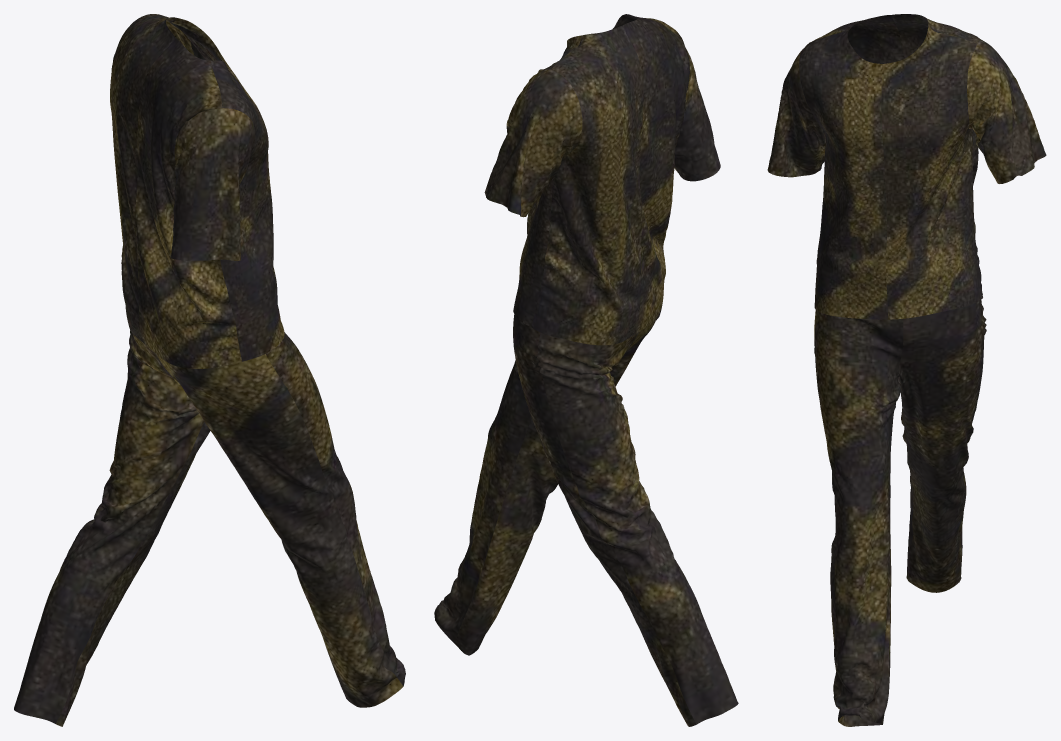
File: shirt walk.glb
The picture shows the model from 3 angles, left to right: view 1: azimuth 30°, elevation 25°; view 2: azimuth 150°, elevation 25°; view 3: azimuth 270°, elevation 25°; orthographic projection. The views are drawn at different scales.
Parts seen in each view (by area): view 1: cloth_parent_2; view 2: cloth_parent_2; view 3: cloth_parent_2.
Boxes of the visible parts, x1,y1,x2,y2 form: cloth_parent_2: (14, 14, 405, 726); cloth_parent_2: (434, 14, 738, 726); cloth_parent_2: (767, 14, 1046, 726).
Bounding box in the file's own units: 0.4427 × 0.85 × 0.336.
Materials: 1 (1 with a texture image).
